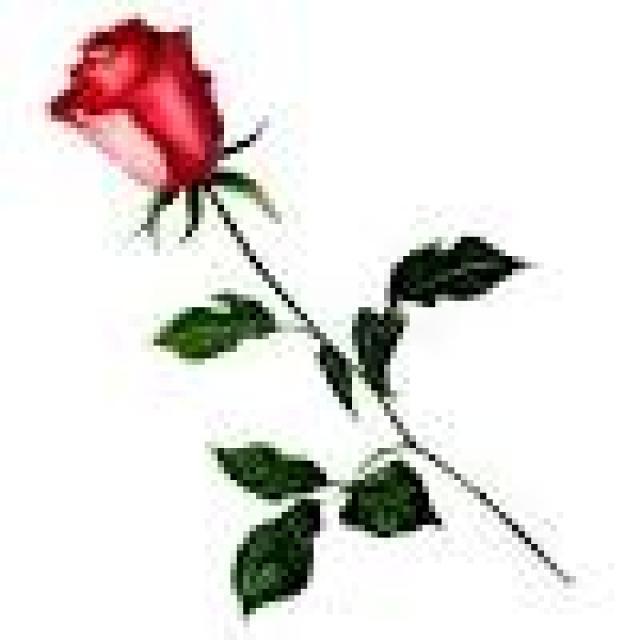rose: (38, 0, 276, 230)
